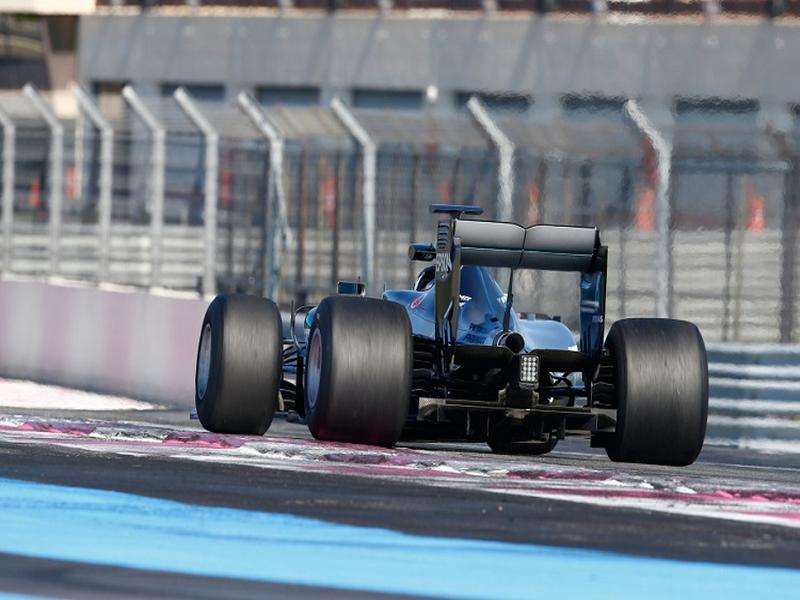racecar: (192, 197, 712, 467)
